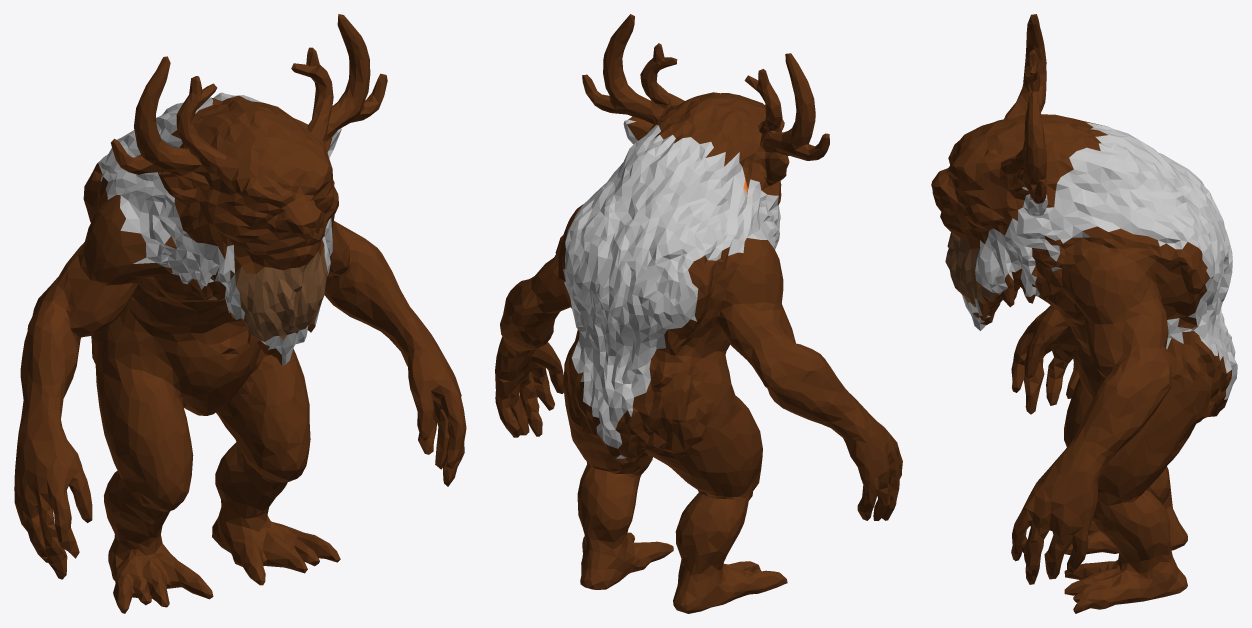
The model's file is klatten.fbx.
The picture shows the model from 3 angles, left to right: view 1: azimuth 30°, elevation 25°; view 2: azimuth 150°, elevation 25°; view 3: azimuth 270°, elevation 25°; orthographic projection. The views are drawn at different scales.
Visible parts, largest first — view 1: tmp5l8sw8fl.ply; view 2: tmp5l8sw8fl.ply; view 3: tmp5l8sw8fl.ply.
Part boxes in pixels (left/top/right/bottom): tmp5l8sw8fl.ply: left=14, top=14, right=466, bottom=613; tmp5l8sw8fl.ply: left=495, top=14, right=902, bottom=613; tmp5l8sw8fl.ply: left=931, top=14, right=1237, bottom=613.
Size of the model in its own units: 154 by 196 by 105.
